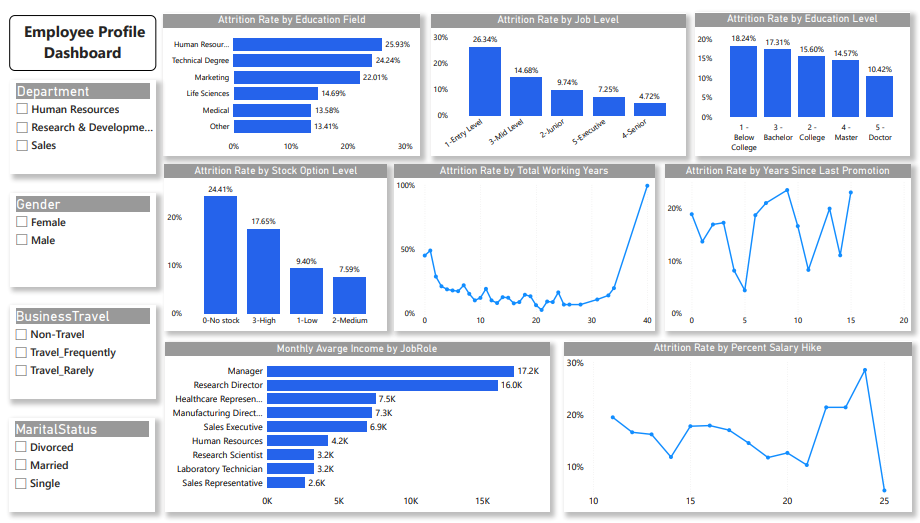

Layout of this report page (visuals, bound fields, positions):
{"tool":"powerbi","page":{"name":"Employee Profile Dashboard","canvas":[1920,1080],"ordinal":1},"visuals":[{"type":"clusteredBarChart","title":"Attrition Rate by Education Field","fields":{"Y":["HR-Employee-Attrition.Attrition Rate"],"Category":["HR-Employee-Attrition.EducationField"]},"box":[335,15,537.5,297.5],"z":0},{"type":"textbox","box":[11.7,18.3,308.3,116.7],"z":1000},{"type":"slicer","fields":{"Values":["HR-Employee-Attrition.Department"]},"box":[15,155,305,195],"z":2000},{"type":"slicer","fields":{"Values":["HR-Employee-Attrition.Gender"]},"box":[13.9,390.6,305,195],"z":3000},{"type":"slicer","fields":{"Values":["HR-Employee-Attrition.BusinessTravel"]},"box":[12.8,626.1,305,195],"z":4000},{"type":"slicer","fields":{"Values":["HR-Employee-Attrition.MaritalStatus"]},"box":[11.7,861.7,305,195],"z":5000},{"type":"clusteredColumnChart","title":"Attrition Rate by Job Level","fields":{"Y":["HR-Employee-Attrition.Attrition Rate"],"Category":["HR-Employee-Attrition.Job Level Label"]},"box":[895,15,532.5,297.5],"z":6000},{"type":"clusteredColumnChart","title":"Attrition Rate by Education Level","fields":{"Category":["HR-Employee-Attrition.Education Level Label"],"Y":["HR-Employee-Attrition.Attrition Rate"]},"box":[1447.5,12.5,450,300],"z":7000},{"type":"clusteredColumnChart","title":"Attrition Rate by Stock Option Level","fields":{"Y":["HR-Employee-Attrition.Attrition Rate"],"Category":["HR-Employee-Attrition.Stock Option Level Label"]},"box":[337.5,330,465,347.5],"z":8000},{"type":"lineChart","title":"Attrition Rate by Total Working Years","fields":{"Category":["HR-Employee-Attrition.TotalWorkingYears"],"Y":["HR-Employee-Attrition.Attrition Rate"]},"box":[817.5,330,545,347.5],"z":9000},{"type":"lineChart","title":"Attrition Rate by Years Since Last Promotion","fields":{"Y":["HR-Employee-Attrition.Attrition Rate"],"Category":["HR-Employee-Attrition.YearsSinceLastPromotion"]},"box":[1385,330,515,347.5],"z":10000},{"type":"clusteredBarChart","title":"Monthly Avarge Income by JobRole","fields":{"Category":["HR-Employee-Attrition.JobRole"],"Y":["HR-Employee-Attrition.Monthly Avarge Income"]},"box":[337.5,702.5,805,355],"z":11000},{"type":"lineChart","title":"Attrition Rate by Percent Salary Hike","fields":{"Category":["HR-Employee-Attrition.PercentSalaryHike"],"Y":["HR-Employee-Attrition.Attrition Rate"]},"box":[1174.4,702.4,726.6,355.6],"z":12000}]}

Visuals, with their boxes in screenshot pixels (x1, y1, x2, y2), scaled from the page's 1920x1080 canvas onto the 920x523 screenshot:
"Attrition Rate by Education Field" clusteredBarChart: {"left": 161, "top": 7, "right": 418, "bottom": 151}
textbox: {"left": 6, "top": 9, "right": 153, "bottom": 65}
slicer - HR-Employee-Attrition.Department: {"left": 7, "top": 75, "right": 153, "bottom": 169}
slicer - HR-Employee-Attrition.Gender: {"left": 7, "top": 189, "right": 153, "bottom": 284}
slicer - HR-Employee-Attrition.BusinessTravel: {"left": 6, "top": 303, "right": 152, "bottom": 398}
slicer - HR-Employee-Attrition.MaritalStatus: {"left": 6, "top": 417, "right": 152, "bottom": 512}
"Attrition Rate by Job Level" clusteredColumnChart: {"left": 429, "top": 7, "right": 684, "bottom": 151}
"Attrition Rate by Education Level" clusteredColumnChart: {"left": 694, "top": 6, "right": 909, "bottom": 151}
"Attrition Rate by Stock Option Level" clusteredColumnChart: {"left": 162, "top": 160, "right": 385, "bottom": 328}
"Attrition Rate by Total Working Years" lineChart: {"left": 392, "top": 160, "right": 653, "bottom": 328}
"Attrition Rate by Years Since Last Promotion" lineChart: {"left": 664, "top": 160, "right": 910, "bottom": 328}
"Monthly Avarge Income by JobRole" clusteredBarChart: {"left": 162, "top": 340, "right": 547, "bottom": 512}
"Attrition Rate by Percent Salary Hike" lineChart: {"left": 563, "top": 340, "right": 911, "bottom": 512}
